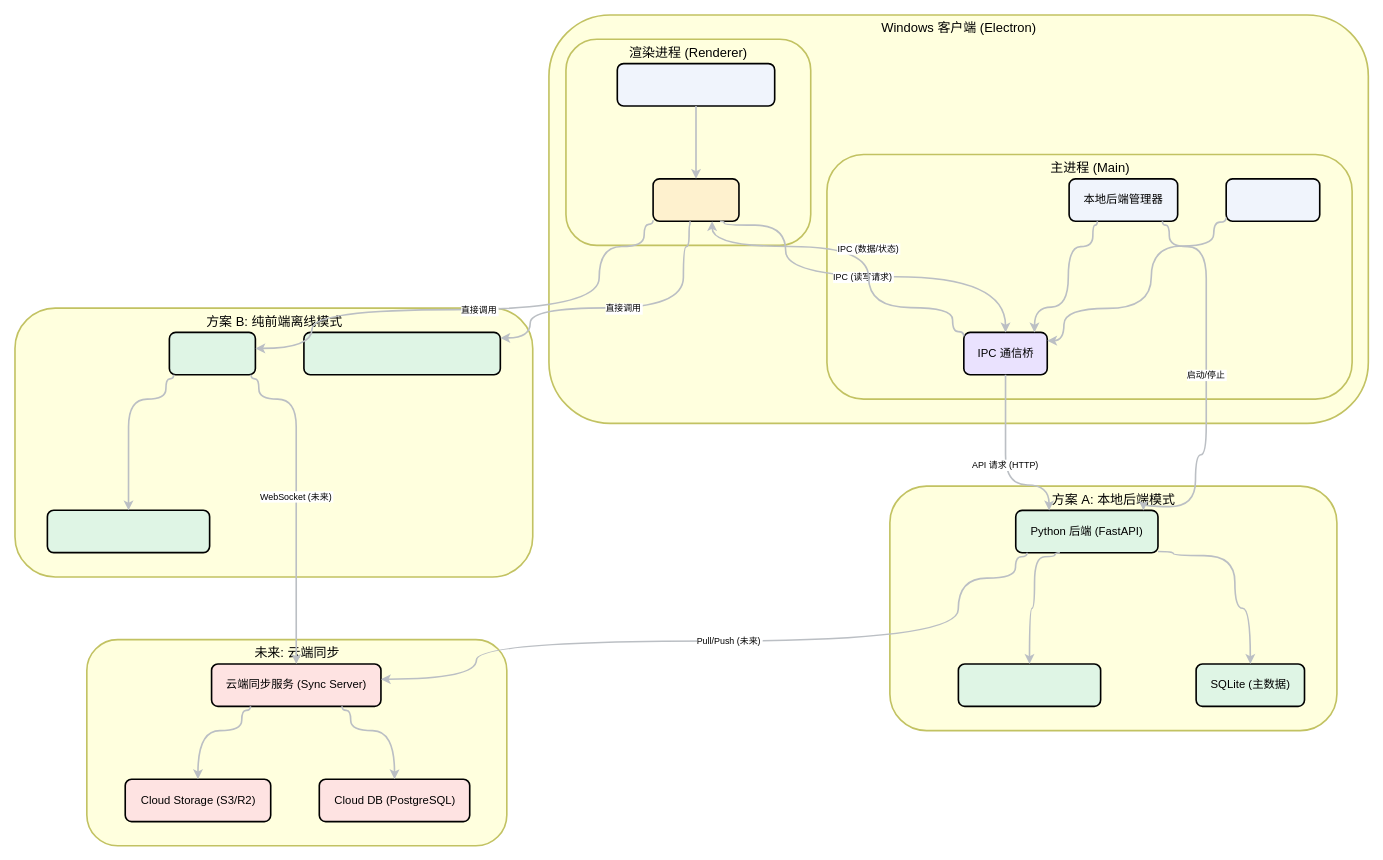
Some shapes in this 1383 by 860 pixel diagram are drawn without their labels. The shapes that lost their labels are listed below. From the top down, each one's centre as x and y in pixels, then its label:
At point 695,84: "React (Tiptap-Editor, UI)".
At point 695,200: "离线数据层".
At point 1272,200: "Electron API".
At point 212,353: "Y.js (CRDT)".
At point 402,353: "SQLite (via sql.js/WASM, 元数据)".
At point 128,531: "y-indexeddb (文档持久化)".
At point 1029,685: "ChromaDB (向量存储)".
